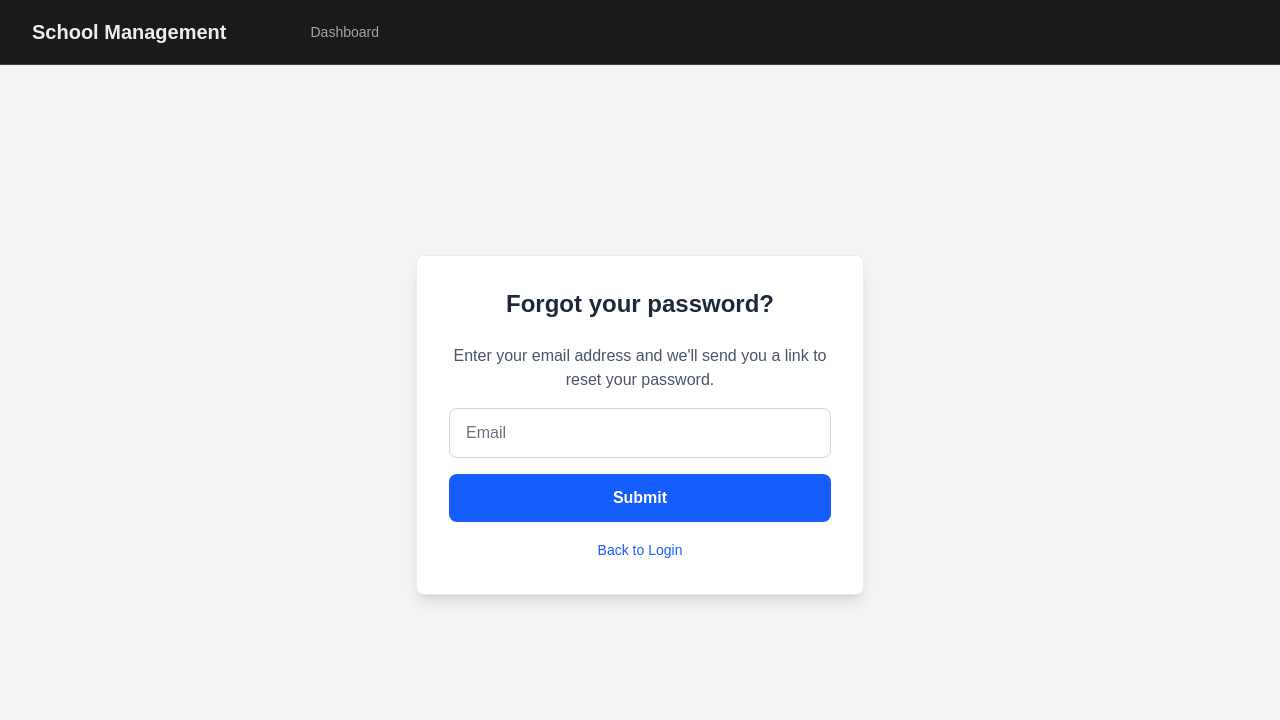
Authentication E2E Tests › Forgot Password Page › should handle successful password reset request
Type "user@example.com" into the field with id "email" at [640, 433], box 449,408 -> 831,458
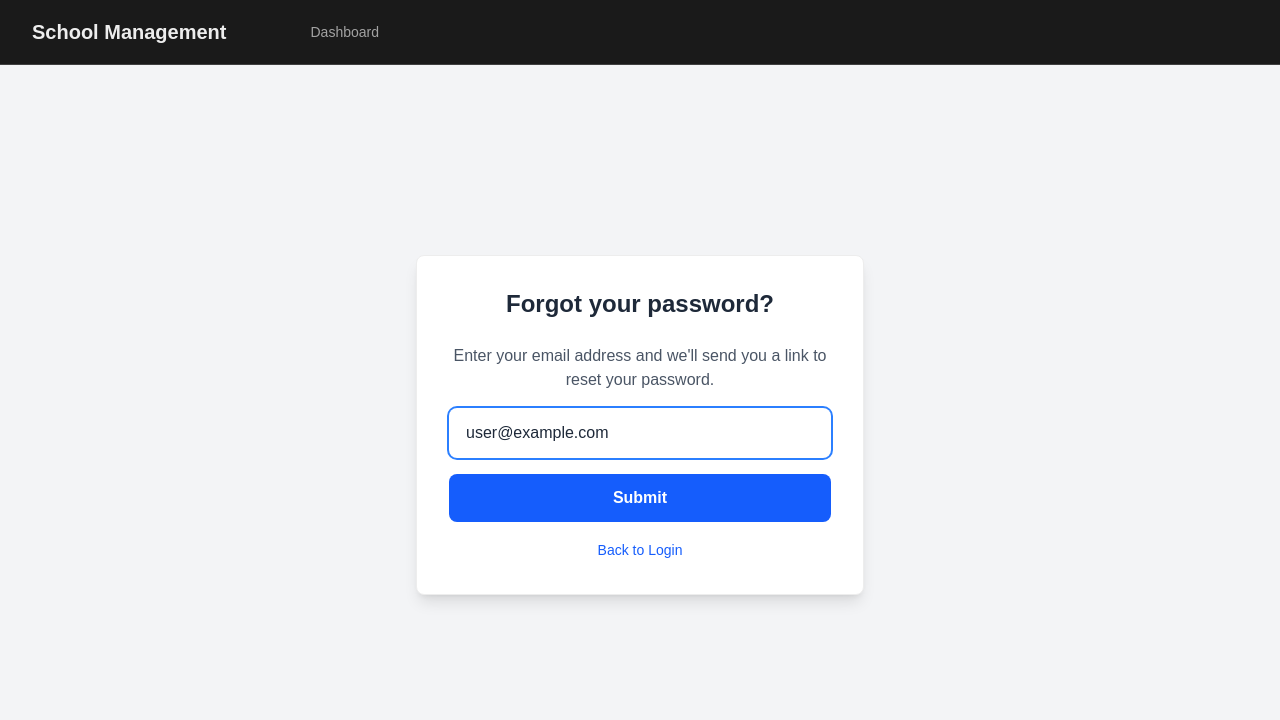
Click the submit button at [640, 498], box 449,474 -> 831,522
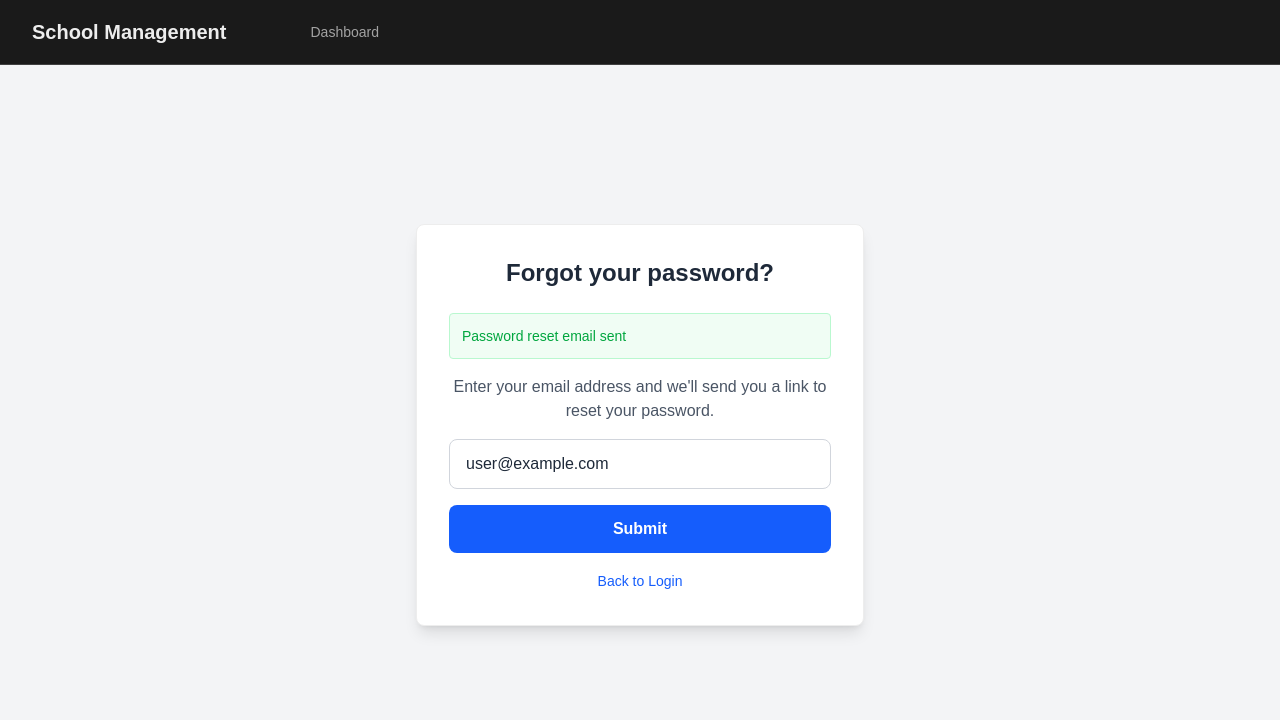
Now the text "Password reset email sent" is shown, box 449,313 -> 831,359
